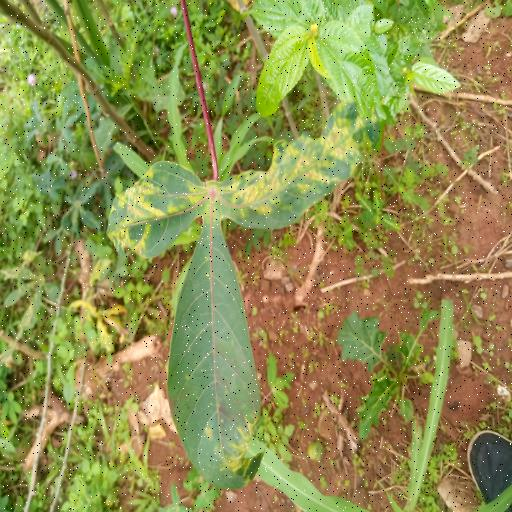Cassava_Mosaic: (112, 114, 368, 498)
